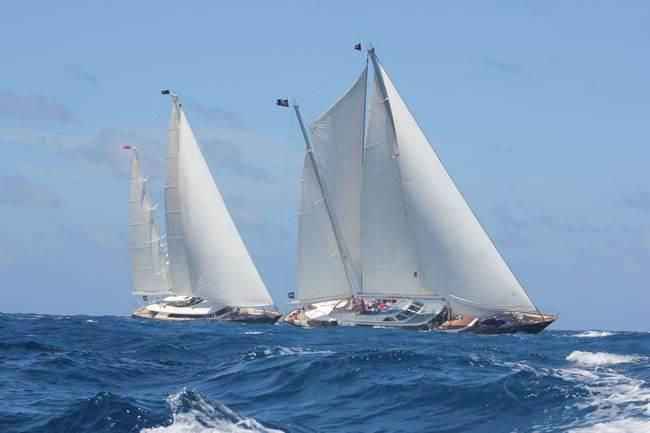fanchuan: (285, 42, 562, 332), (124, 81, 283, 325)
